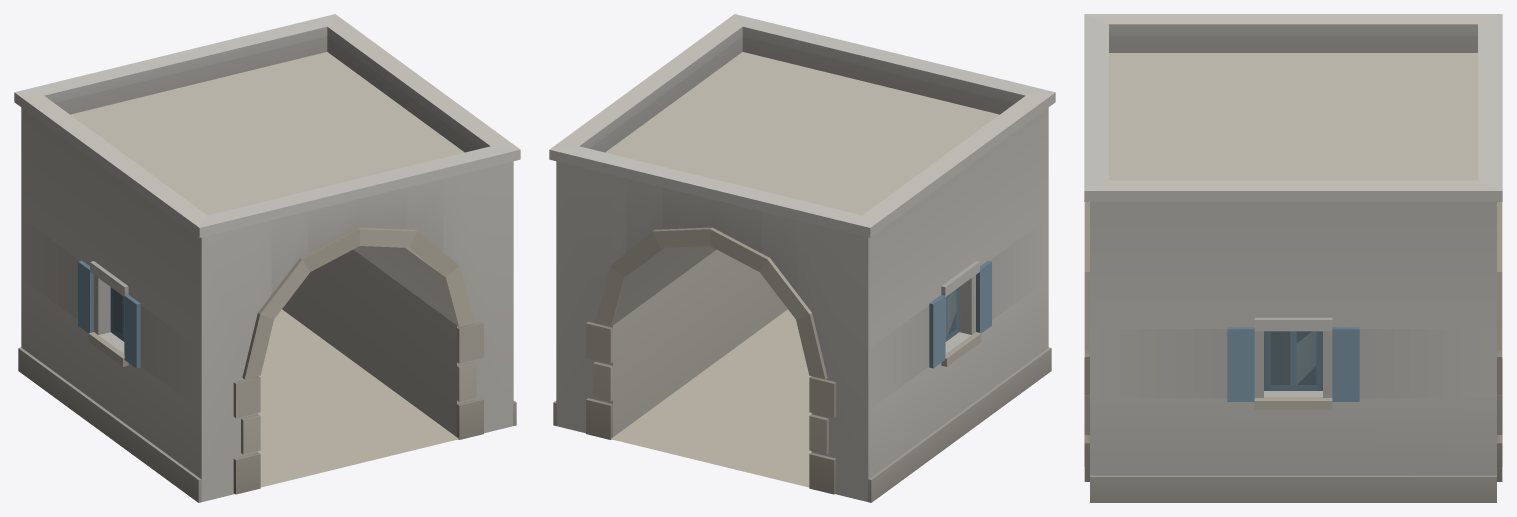
File: arch.lod1.glb
The picture shows the model from 3 angles, left to right: view 1: azimuth 30°, elevation 25°; view 2: azimuth 150°, elevation 25°; view 3: azimuth 270°, elevation 25°; orthographic projection. The views are drawn at different scales.
Bounding box in the file's own units: 4.43 × 3.63 × 4.4.
